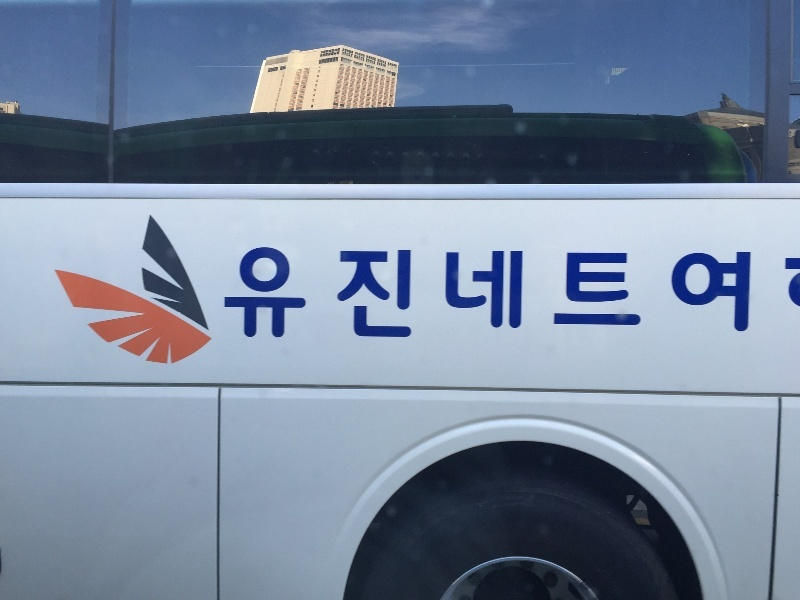text: (225, 245, 240, 345), (241, 245, 256, 345), (257, 245, 272, 345), (273, 245, 288, 345), (289, 245, 304, 345), (305, 245, 320, 345), (321, 245, 336, 345), (337, 245, 352, 345), (353, 245, 368, 345), (369, 245, 384, 345), (385, 245, 400, 345), (401, 245, 416, 345), (417, 245, 432, 345), (433, 245, 448, 345), (449, 245, 464, 345), (465, 245, 480, 345), (481, 245, 496, 345), (497, 245, 512, 345), (513, 245, 528, 345), (529, 245, 544, 345), (545, 245, 560, 345), (561, 245, 576, 345), (577, 245, 592, 345), (593, 245, 608, 345), (609, 245, 624, 345), (625, 245, 640, 345), (673, 250, 688, 339), (689, 250, 704, 339), (705, 250, 720, 339), (721, 250, 736, 339), (737, 250, 752, 339), (785, 254, 800, 311), (641, 245, 648, 345), (667, 250, 672, 339), (222, 245, 224, 345), (782, 254, 784, 311), (753, 250, 754, 339), (337, 181, 351, 184), (328, 181, 336, 184)
